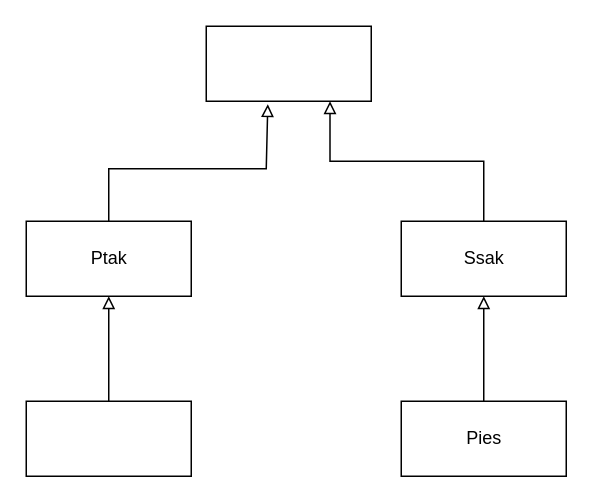
Some shapes in this 593 by 503 pixel diagram are drawn without their labels. The shapes that lost their labels are listed below. From the top down, each one's box as (x1, y1, x2, y2) in pixels, then its label:
(205, 25, 371, 101): Zwierze
(25, 400, 191, 476): Kaczka
